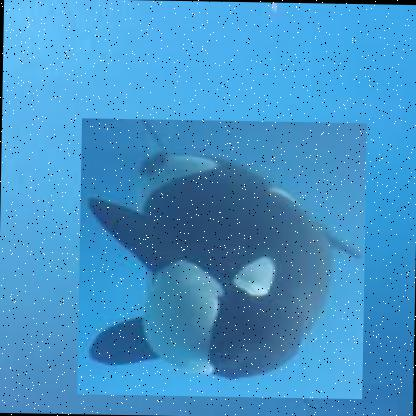killer_whale: (76, 116, 367, 398)
